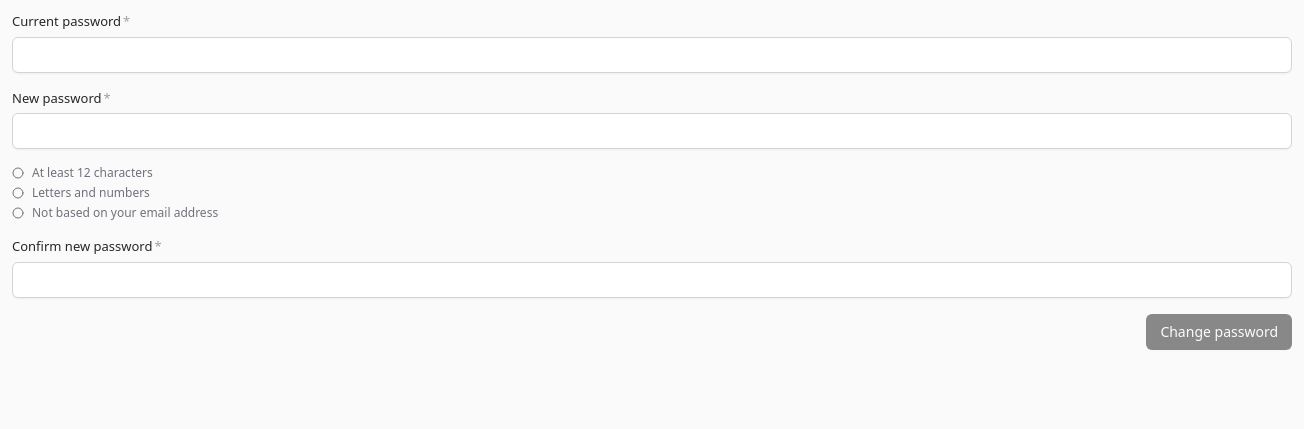
Scenario: PasswordForm › shows the API's reason when the change is refused
Type "wrong" into the password field labelled "Current password*" at (652, 55), box [12,37,1292,73]
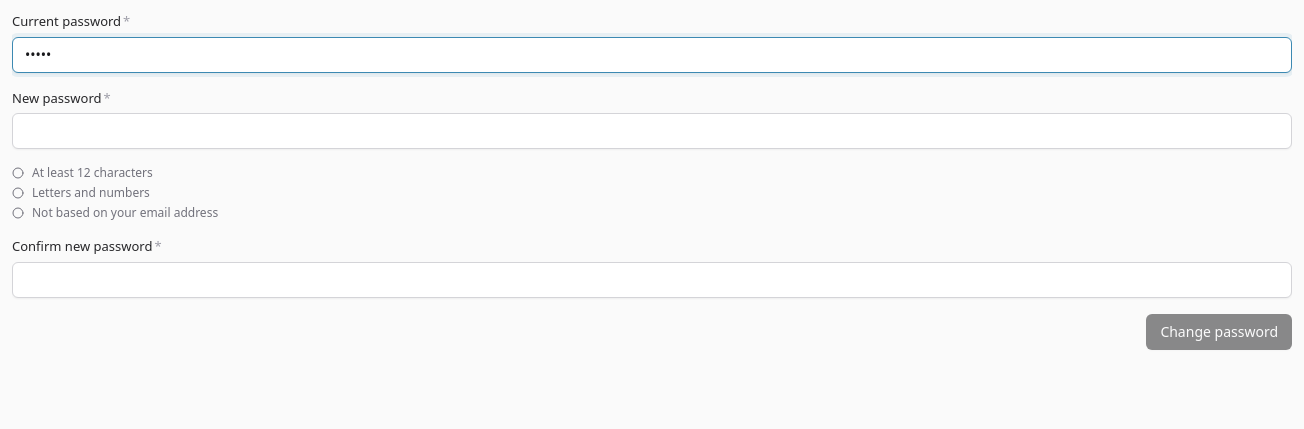
Type "a much longer one 42" into the password field labelled "New password*" at (652, 131), box [12,113,1292,149]
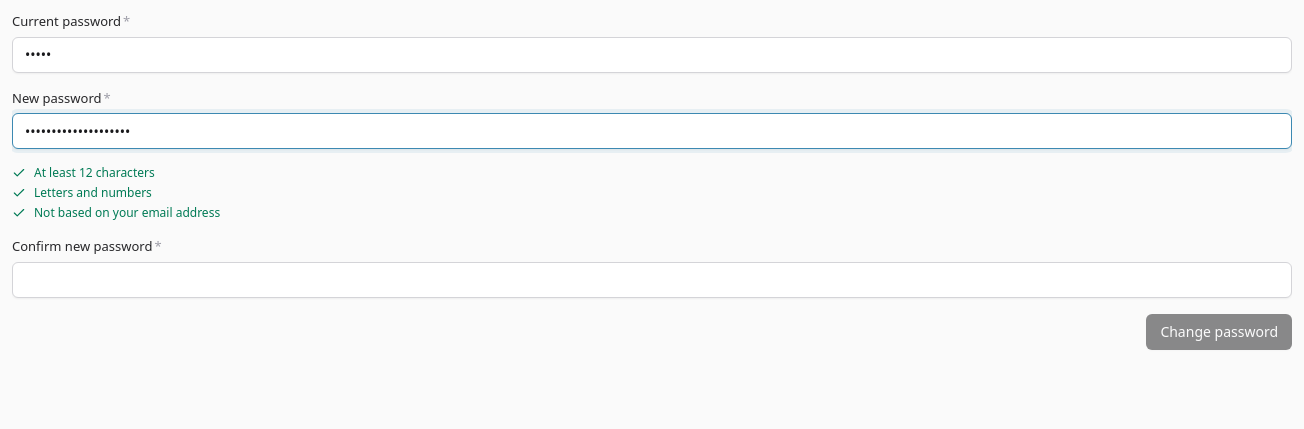
Type "a much longer one 42" into the password field labelled "Confirm new password*" at (652, 280), box [12,262,1292,298]
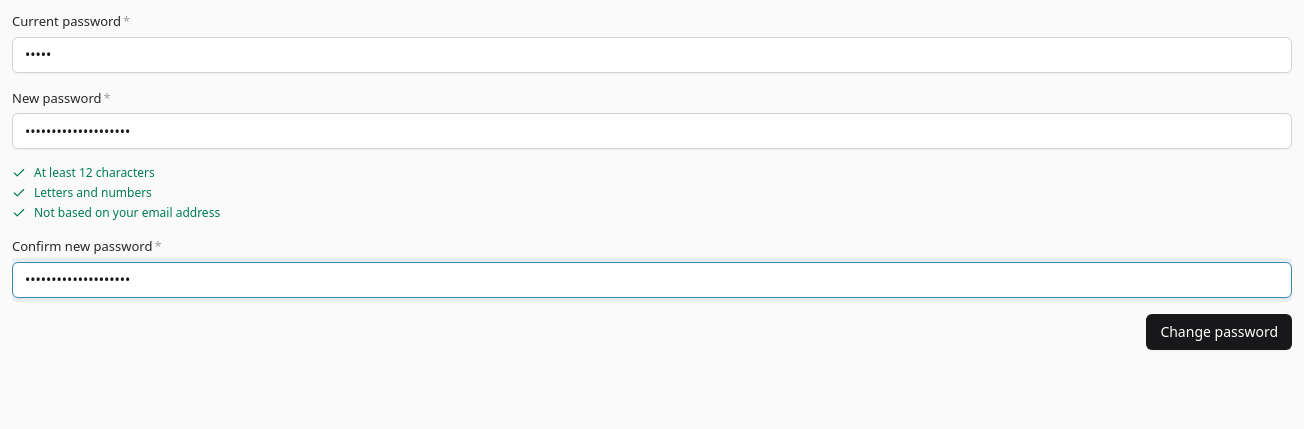
Click the button "Change password" at (1219, 332), box [1146,314,1292,350]
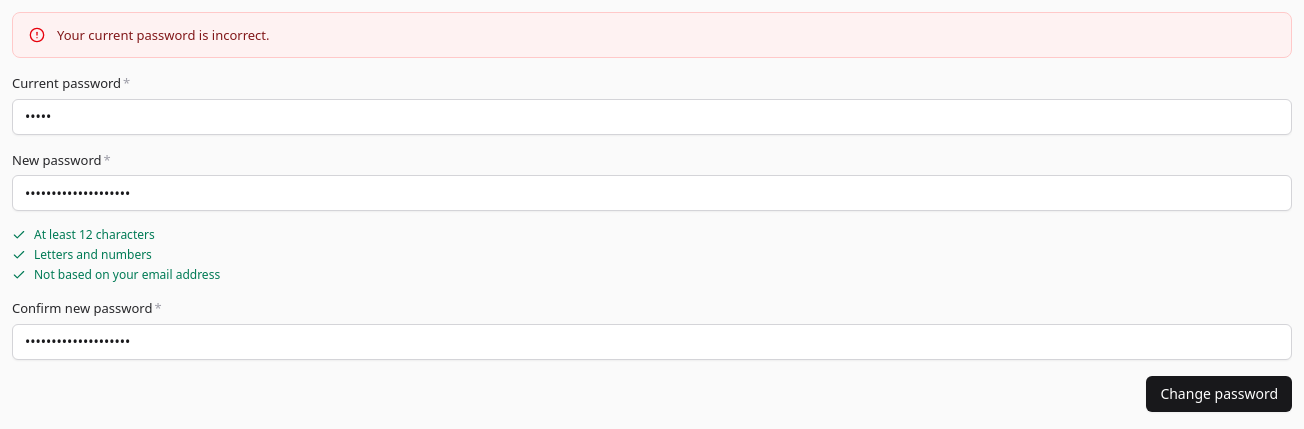
Expected: the text "Your current password is incorrect." is shown, [57,26,270,44]
